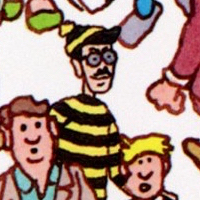odlaw: (74, 24, 114, 92)
